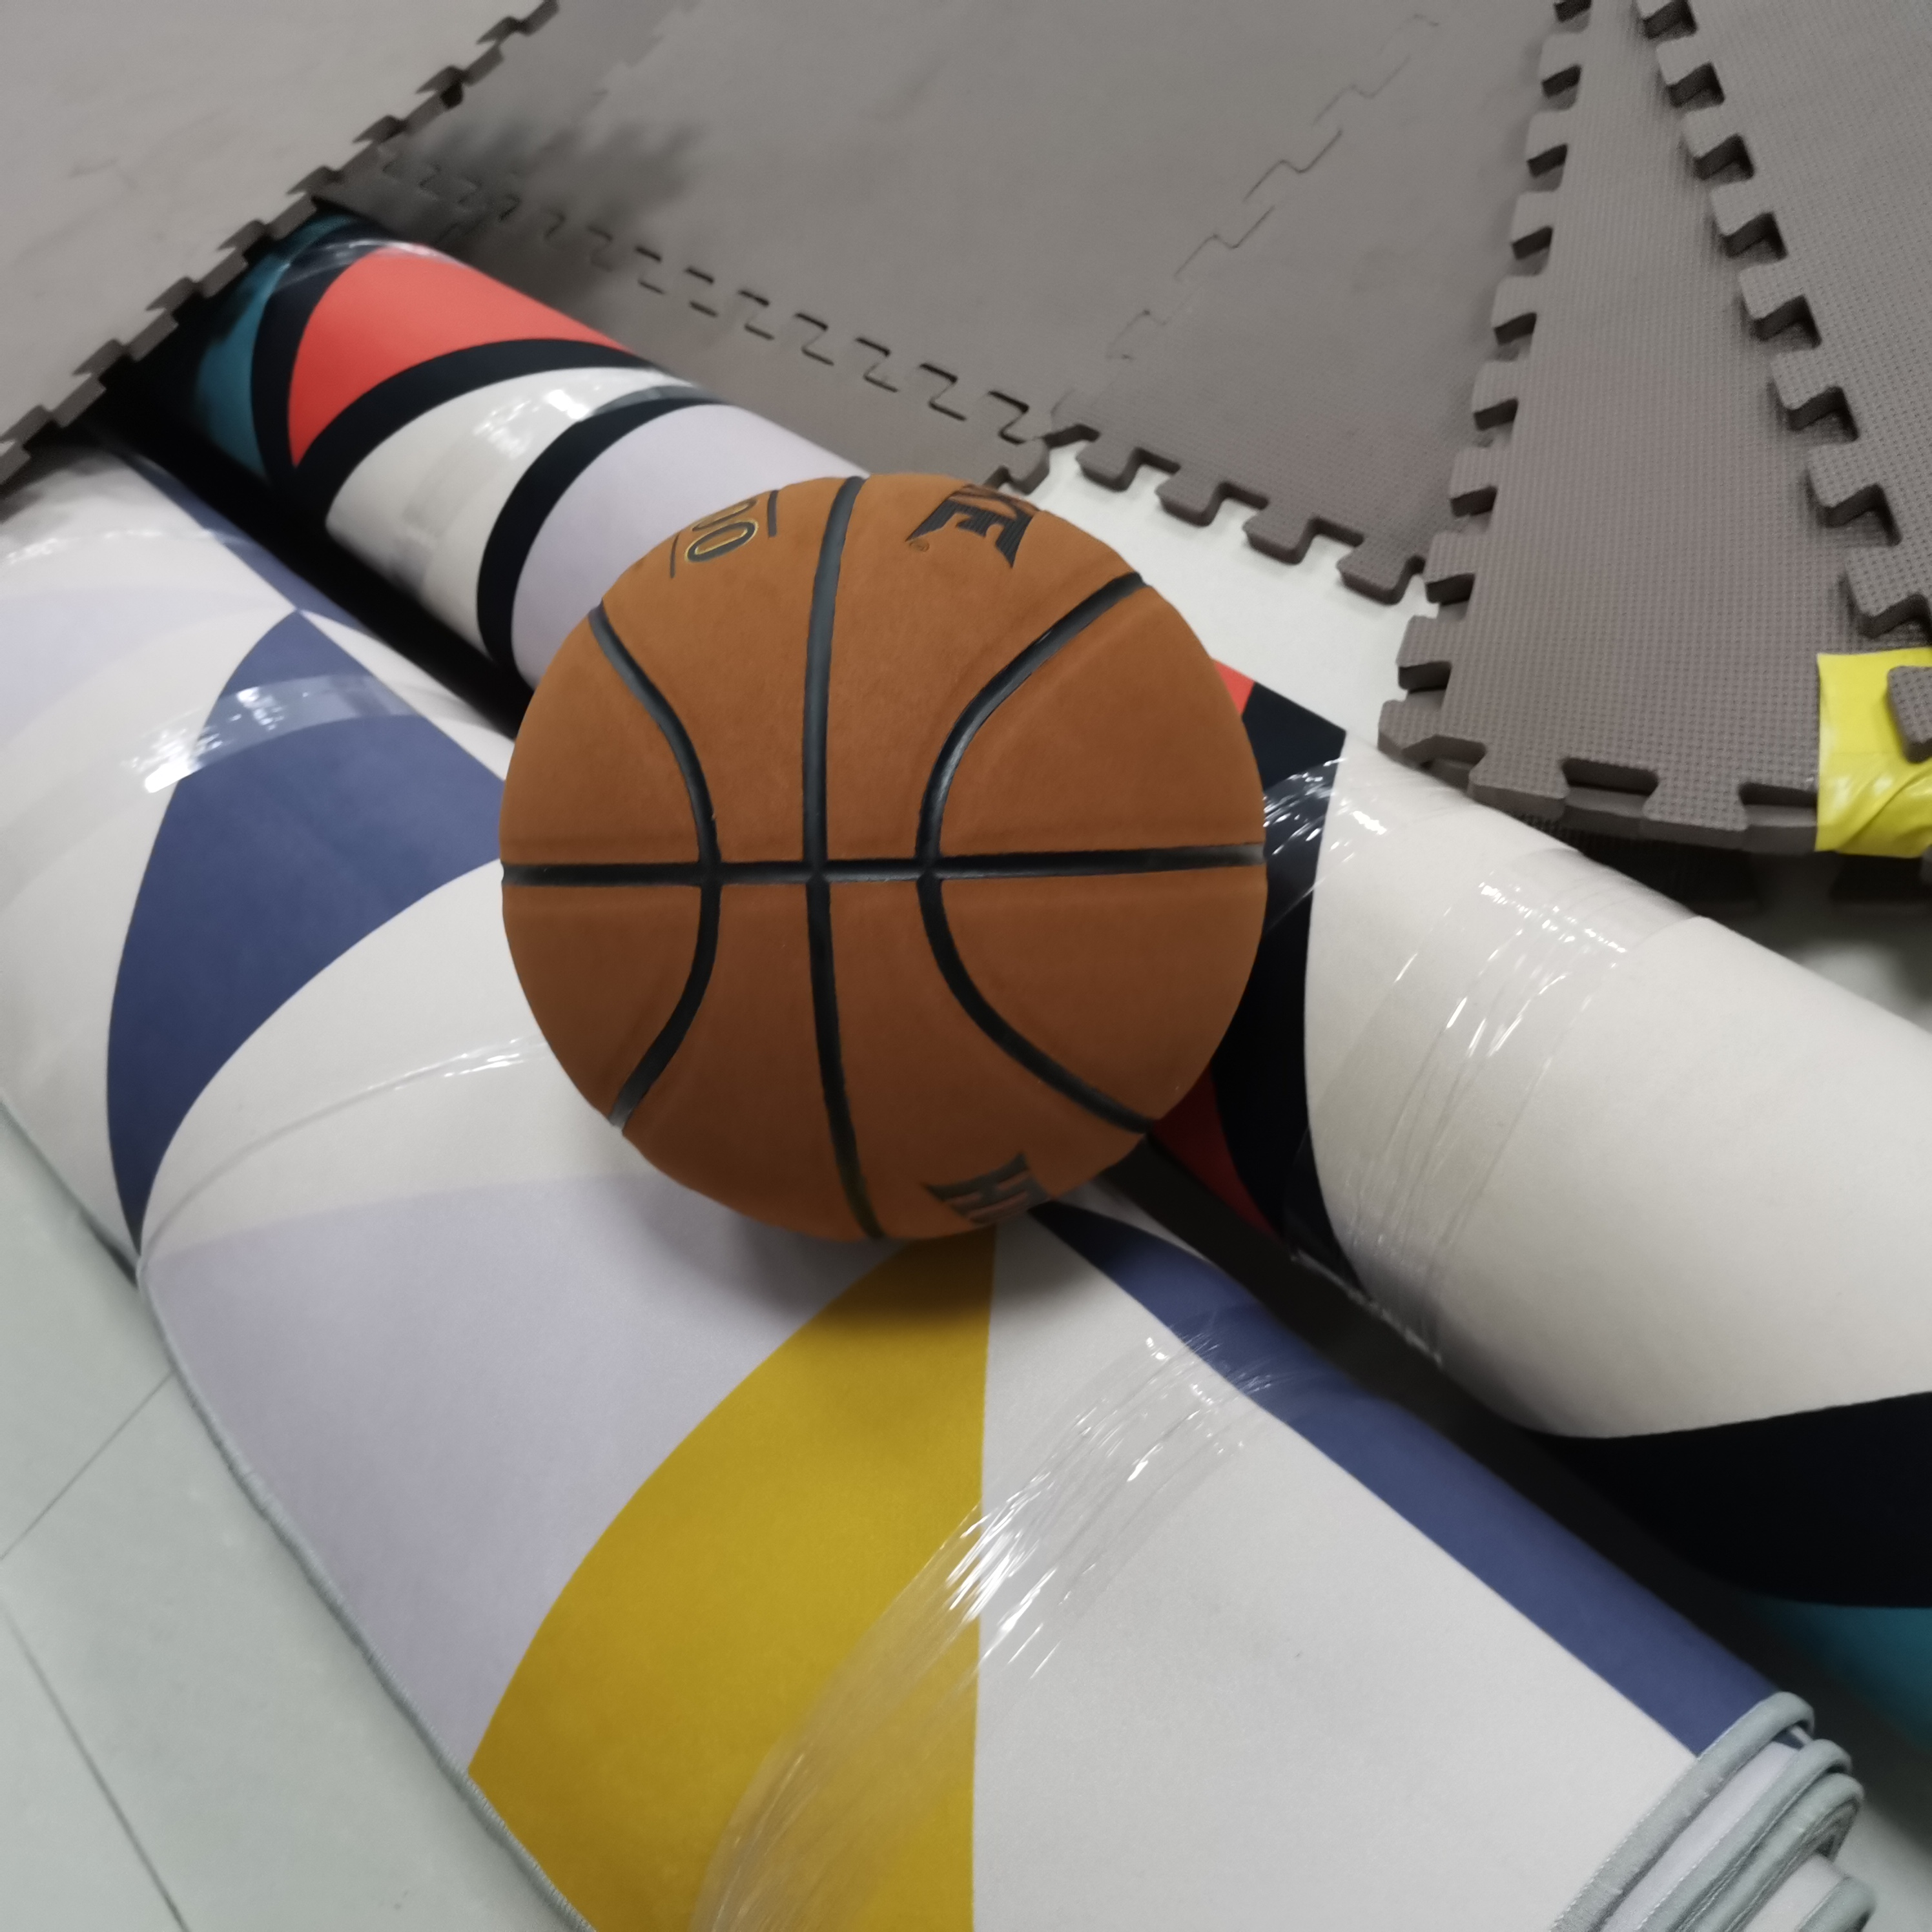basketball: (497, 476, 1265, 1240)
